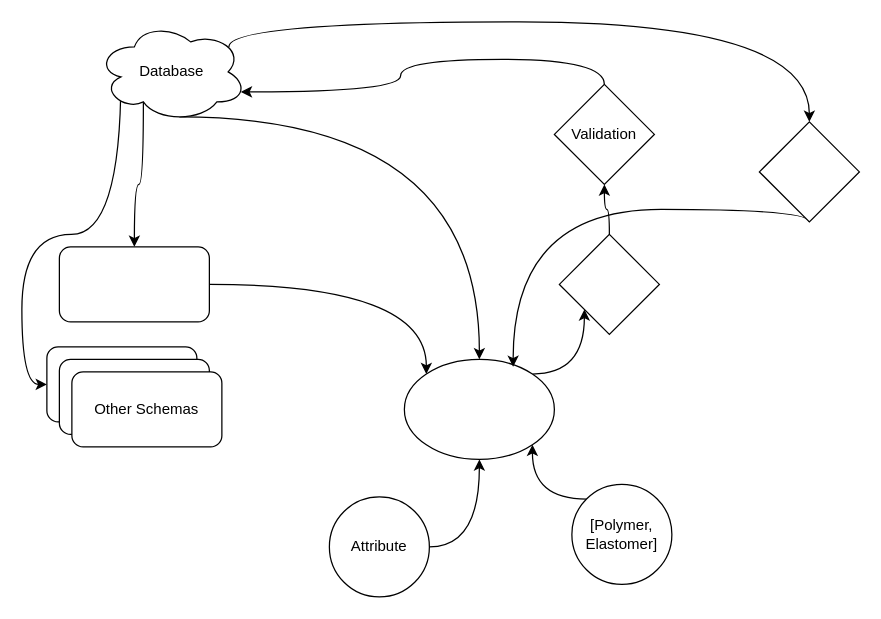
The diagram is 881 pixels wide and 619 high, and some of its shapes have lost their labels. The centre of each missing label's shape, as x and y in pixels:
"Dereferencing" goes at point 608,283.
"Material Object" goes at point 478,408.
"Material Schema" goes at point 133,284.
"Reference" goes at point 808,171.
